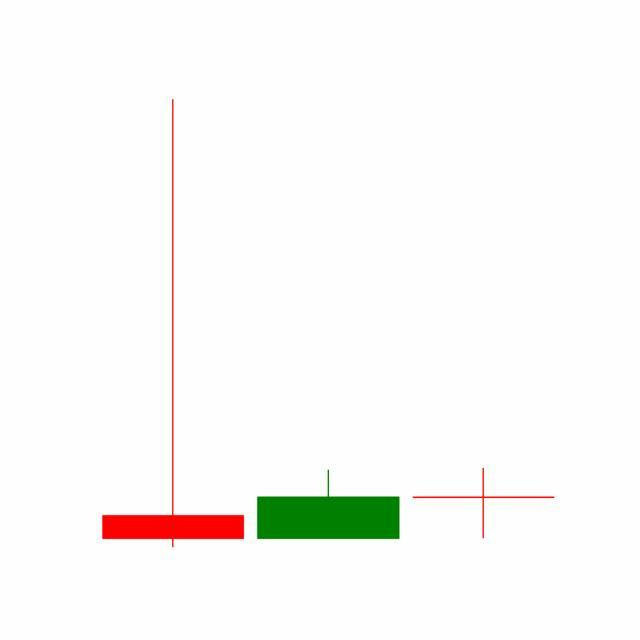Spinning Top: (406, 468, 562, 541)
